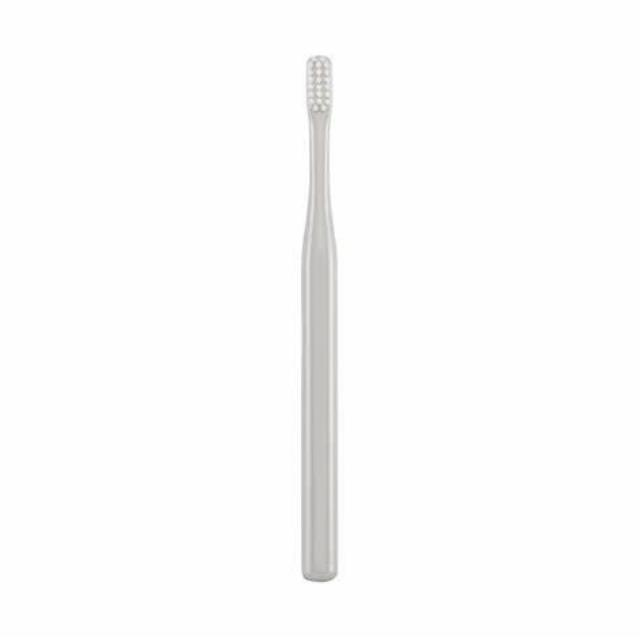toothbrush: (252, 33, 394, 587)
